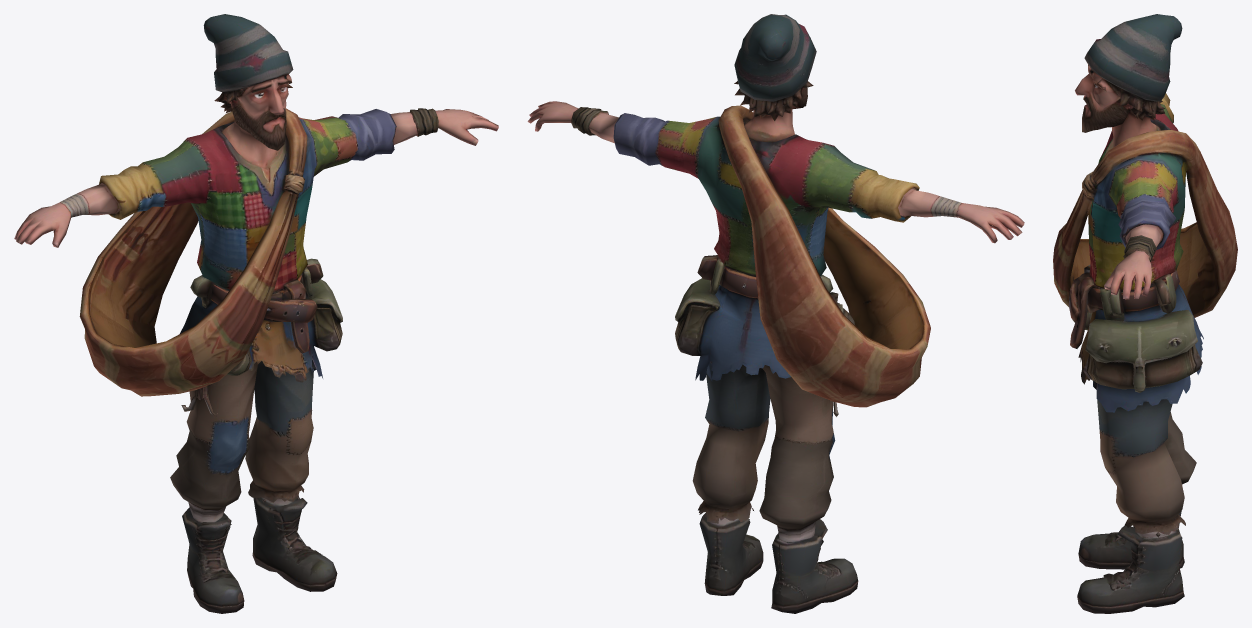
File: macunaima.glb
The picture shows the model from 3 angles, left to right: view 1: azimuth 30°, elevation 25°; view 2: azimuth 150°, elevation 25°; view 3: azimuth 270°, elevation 25°; orthographic projection. The views are drawn at different scales.
Visible parts, largest first — view 1: Patchwork Hammock Wanderer; view 2: Patchwork Hammock Wanderer; view 3: Patchwork Hammock Wanderer.
Boxes of the visible parts, left/top/right/bottom form: Patchwork Hammock Wanderer: left=14, top=14, right=498, bottom=613; Patchwork Hammock Wanderer: left=527, top=14, right=1024, bottom=613; Patchwork Hammock Wanderer: left=1053, top=14, right=1237, bottom=613.
Size of the model in its own units: 0.8926 by 0.998 by 0.2988.
Materials: 1 (1 with a texture image).
